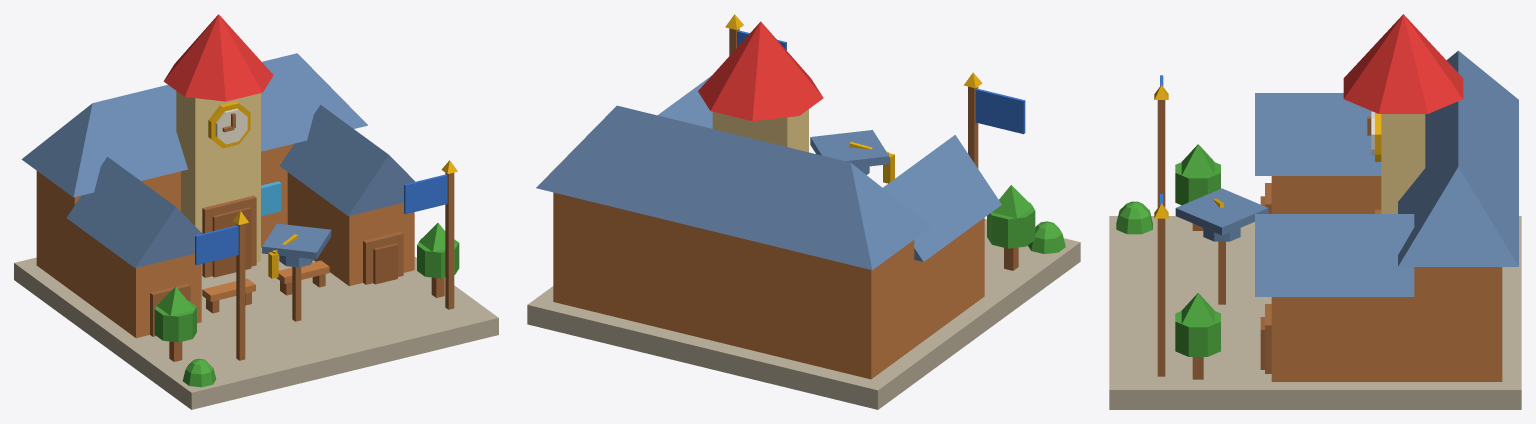
The model's file is university_t2_v2.glb.
The picture shows the model from 3 angles, left to right: view 1: azimuth 30°, elevation 25°; view 2: azimuth 150°, elevation 25°; view 3: azimuth 270°, elevation 25°; orthographic projection. The views are drawn at different scales.
Visible parts, largest first — view 1: university_t2_v2; view 2: university_t2_v2; view 3: university_t2_v2.
Part boxes in pixels (bbox=[...]): university_t2_v2: bbox=[14, 14, 498, 409]; university_t2_v2: bbox=[527, 14, 1080, 409]; university_t2_v2: bbox=[1109, 14, 1521, 409].
Bounding box in the file's own units: 0.75 × 0.62 × 0.75.
Materials: 1 (1 with a texture image).
